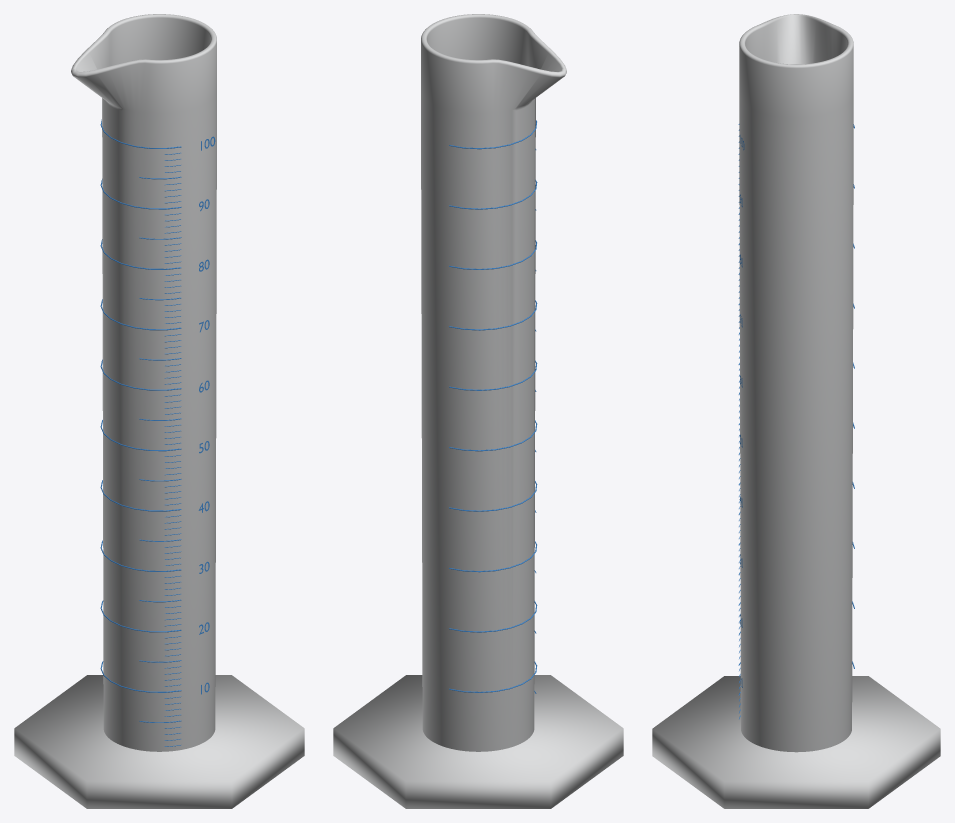
Rendered from Probeta.glb.
The picture shows the model from 3 angles, left to right: view 1: azimuth 30°, elevation 25°; view 2: azimuth 150°, elevation 25°; view 3: azimuth 270°, elevation 25°; orthographic projection.
Visible parts, largest first — view 1: Cuerpo_Probeta, Base_Hexagonal; view 2: Cuerpo_Probeta, Base_Hexagonal; view 3: Cuerpo_Probeta, Base_Hexagonal.
Part boxes in pixels (box(x1,y1,x2,y2)): Cuerpo_Probeta: box(71, 14, 216, 751); Base_Hexagonal: box(14, 675, 304, 808); Cuerpo_Probeta: box(421, 14, 566, 751); Base_Hexagonal: box(333, 675, 623, 808); Cuerpo_Probeta: box(739, 14, 853, 752); Base_Hexagonal: box(652, 676, 940, 808).
Size of the model in its own units: 0.6582 by 2.08 by 0.76.
